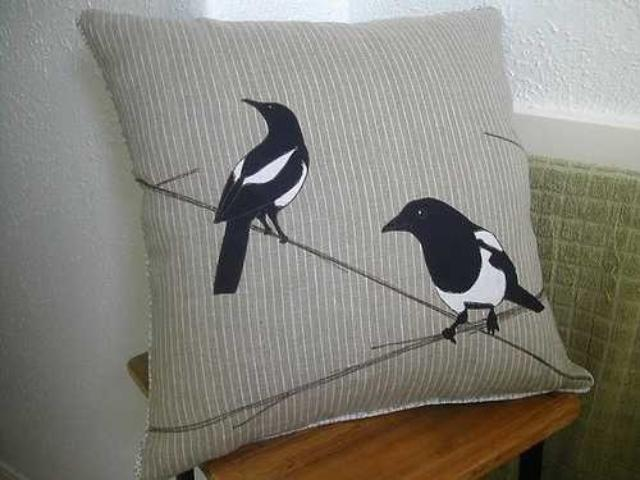pillow: (74, 5, 594, 478)
